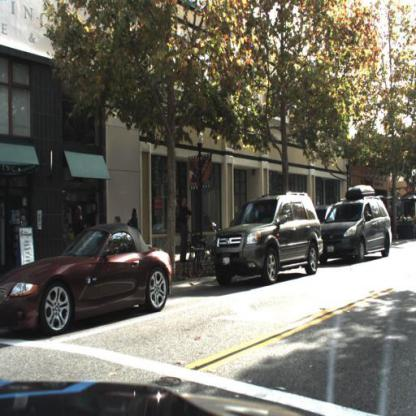car: (1, 220, 178, 337), (211, 190, 326, 289), (319, 180, 400, 266), (326, 189, 394, 261)
pedestrian: (177, 195, 192, 264), (73, 205, 90, 259), (128, 203, 146, 240), (128, 207, 142, 243)
